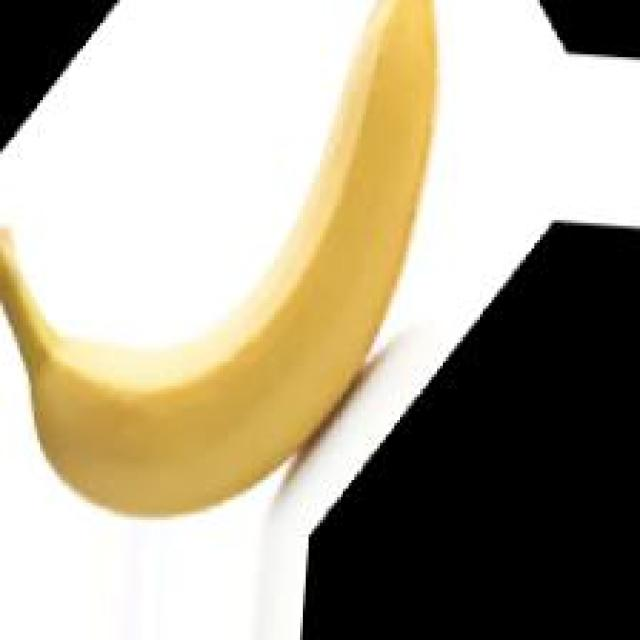bananas: (52, 0, 444, 518)
